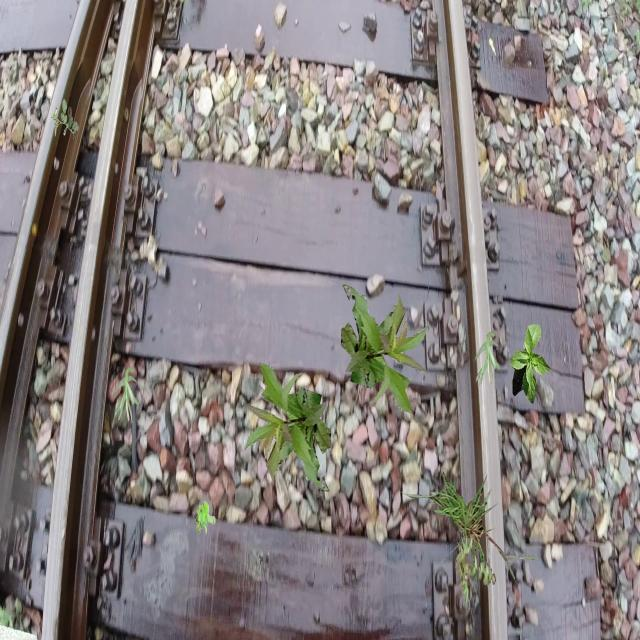Plant: (395, 471, 538, 590), (243, 362, 332, 492), (341, 285, 429, 415), (510, 324, 552, 404), (455, 535, 497, 606), (474, 331, 501, 388), (113, 367, 140, 424), (51, 99, 78, 140), (196, 501, 216, 534)
